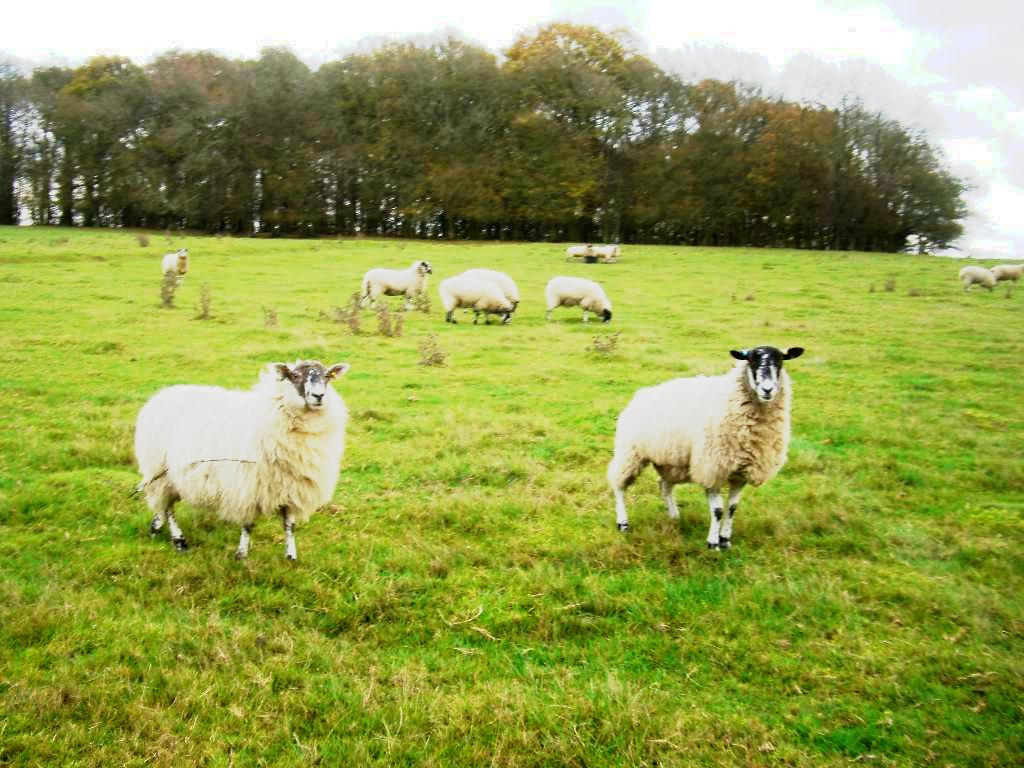Sheep: (126, 346, 360, 570), (604, 337, 809, 552), (362, 262, 434, 315), (440, 275, 516, 324), (546, 272, 614, 324), (456, 268, 523, 309), (955, 265, 997, 295), (990, 259, 1024, 288), (591, 239, 627, 263), (563, 243, 596, 264)
